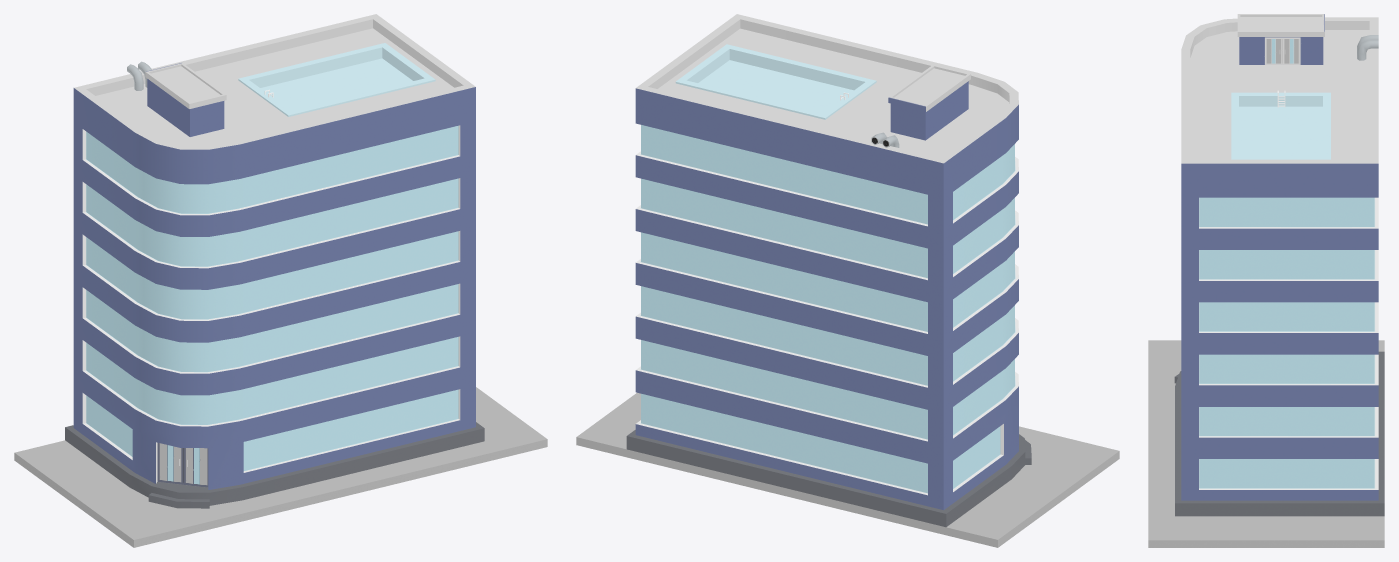
Rendered from Hotel.glb.
3 views of the same model, side by side, from view 1: azimuth 30°, elevation 25°; view 2: azimuth 150°, elevation 25°; view 3: azimuth 270°, elevation 25° (orthographic). The views are drawn at different scales.
Parts seen in each view (by area): view 1: Box153; view 2: Box153; view 3: Box153.
Boxes of the visible parts, x1=… form: Box153: x1=14, y1=14, x2=547, y2=547; Box153: x1=576, y1=14, x2=1119, y2=547; Box153: x1=1148, y1=14, x2=1384, y2=547.
Bounding box in the file's own units: 12 × 10.71 × 6.
Materials: 1 (1 with a texture image).
